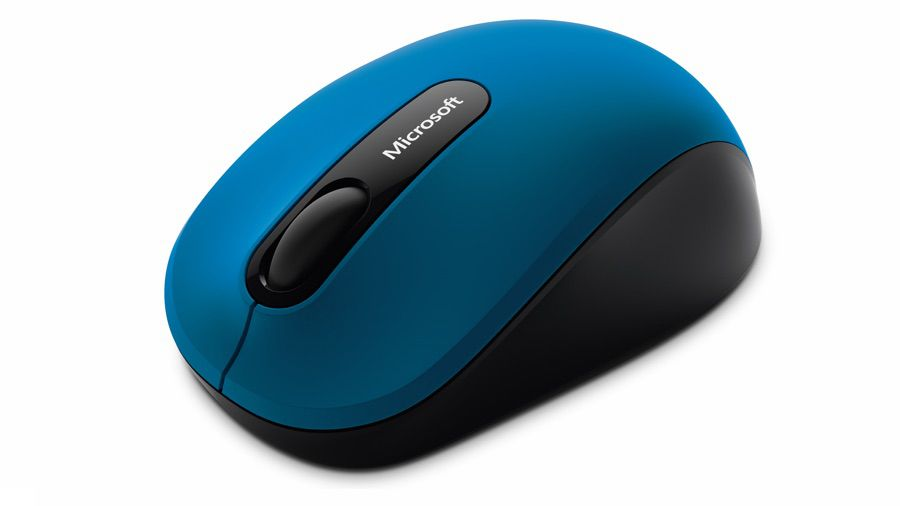Mouse: (154, 16, 778, 480)
